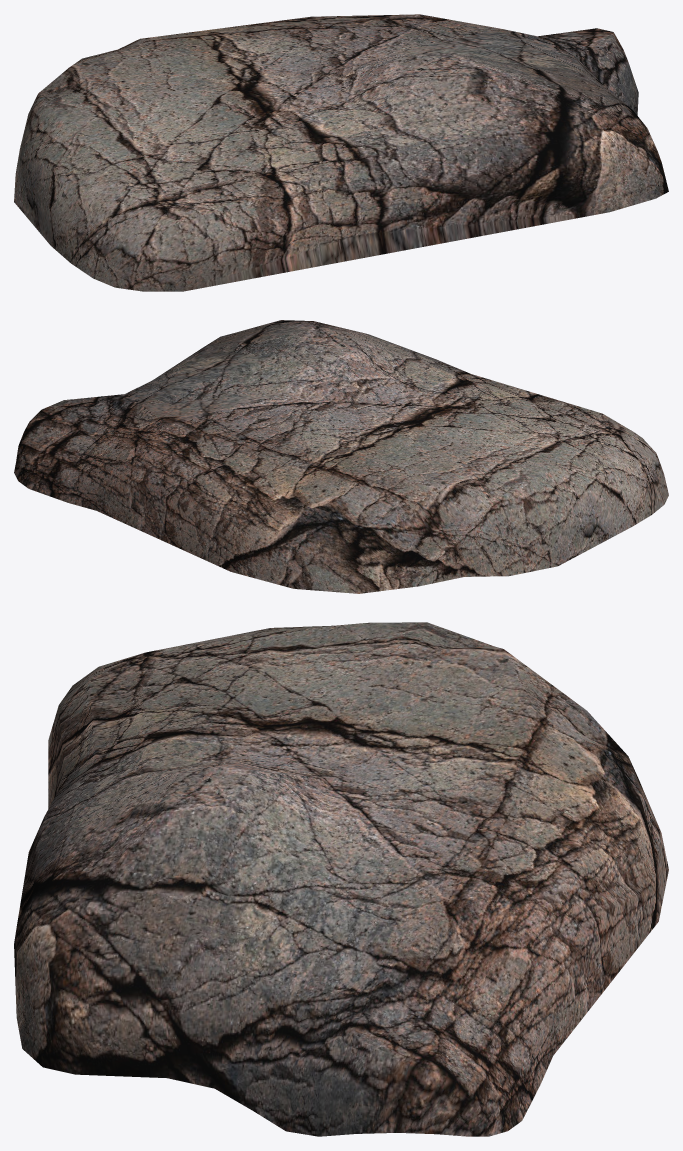
File: Rock 4.fbx
3 views of the same model, one above another, from view 1: azimuth 30°, elevation 25°; view 2: azimuth 150°, elevation 25°; view 3: azimuth 270°, elevation 25° (orthographic). The views are drawn at different scales.
Parts seen in each view (by area): view 1: Rock 4; view 2: Rock 4; view 3: Rock 4.
Boxes of the visible parts, x1,y1,x2,y2 form: Rock 4: (14, 14, 668, 291); Rock 4: (14, 320, 668, 593); Rock 4: (14, 622, 668, 1136).
Bounding box in the file's own units: 468 × 104 × 314.
